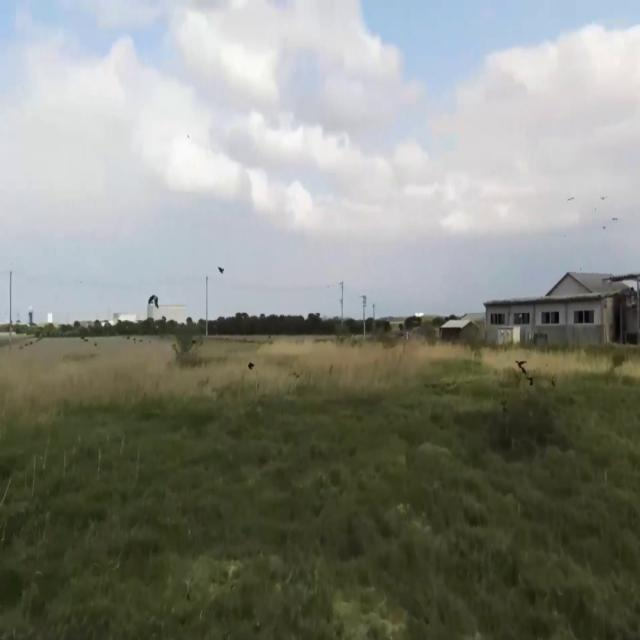bird: (147, 285, 160, 316), (516, 354, 527, 379), (217, 258, 224, 282), (248, 355, 255, 376)
